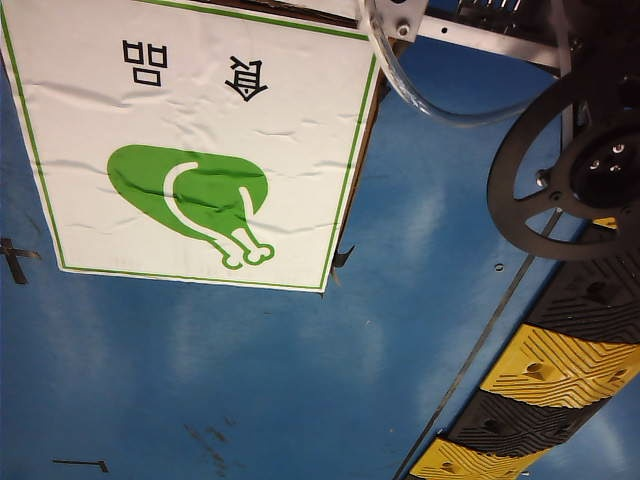Cube_food: (34, 31, 349, 274)
